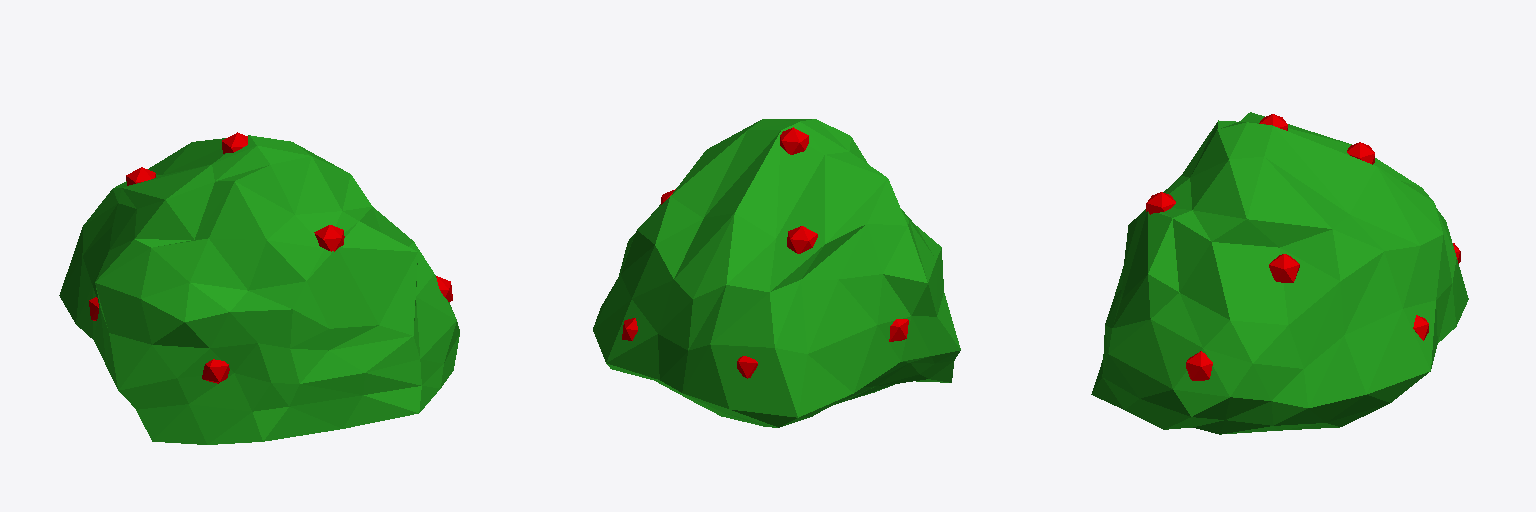
3 views of the same model, side by side, from view 1: azimuth 30°, elevation 25°; view 2: azimuth 150°, elevation 25°; view 3: azimuth 270°, elevation 25° (orthographic).
Visible parts, largest first — view 1: Икосфера.002_Икосфера.033; view 2: Икосфера.002_Икосфера.033; view 3: Икосфера.002_Икосфера.033.
Part boxes in pixels (x1,y1,x2,y2): Икосфера.002_Икосфера.033: (59,132,459,444); Икосфера.002_Икосфера.033: (593,119,960,427); Икосфера.002_Икосфера.033: (1091,112,1468,434).
Bounding box in the file's own units: 2.33 × 1.77 × 2.3.
1 materials, 1 textured.